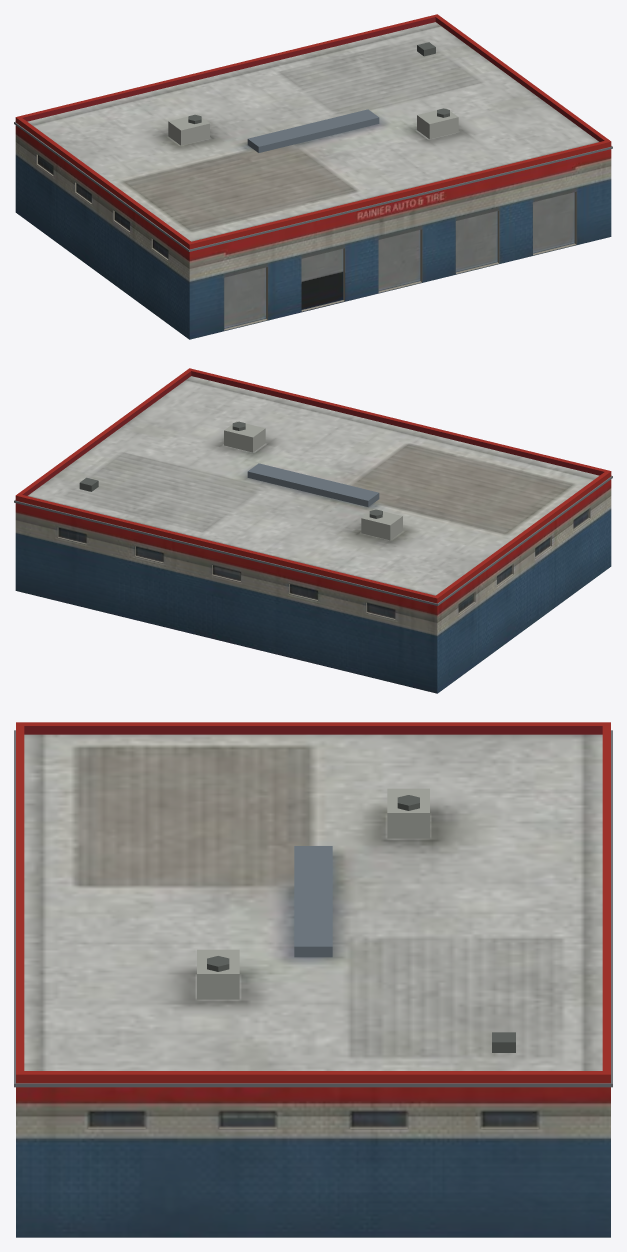
File: seattle_low_g.glb
The picture shows the model from 3 angles, top to bottom: view 1: azimuth 30°, elevation 25°; view 2: azimuth 150°, elevation 25°; view 3: azimuth 270°, elevation 25°; orthographic projection. The views are drawn at different scales.
Parts seen in each view (by area): view 1: seattle_low_g; view 2: seattle_low_g; view 3: seattle_low_g.
Boxes of the visible parts, <box> form: seattle_low_g: <box>14,14,612,339</box>; seattle_low_g: <box>14,368,612,693</box>; seattle_low_g: <box>14,722,612,1237</box>.
Size of the model in its own units: 35.16 by 8.6 by 25.16.
1 material, 1 textured.
